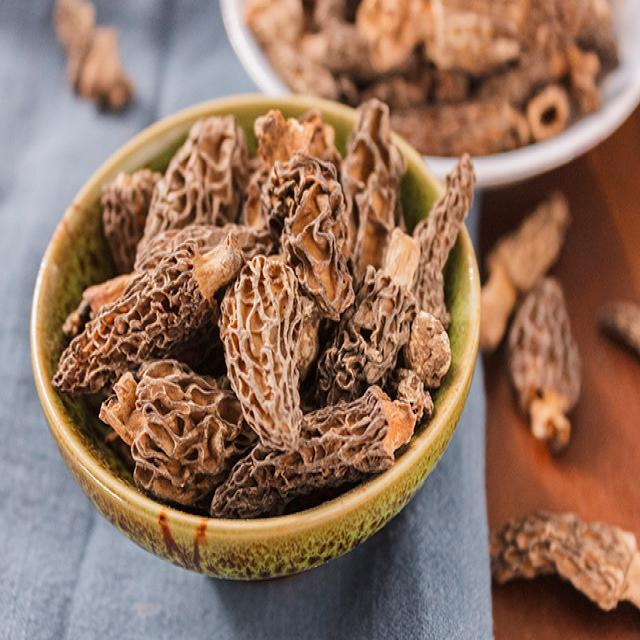Morchella esculenta: (54, 102, 477, 511)
